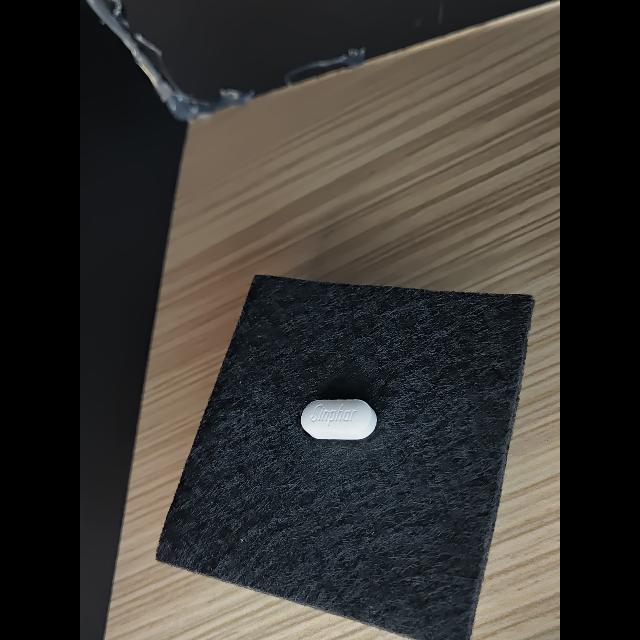Intact Pill: (301, 399, 377, 439)
